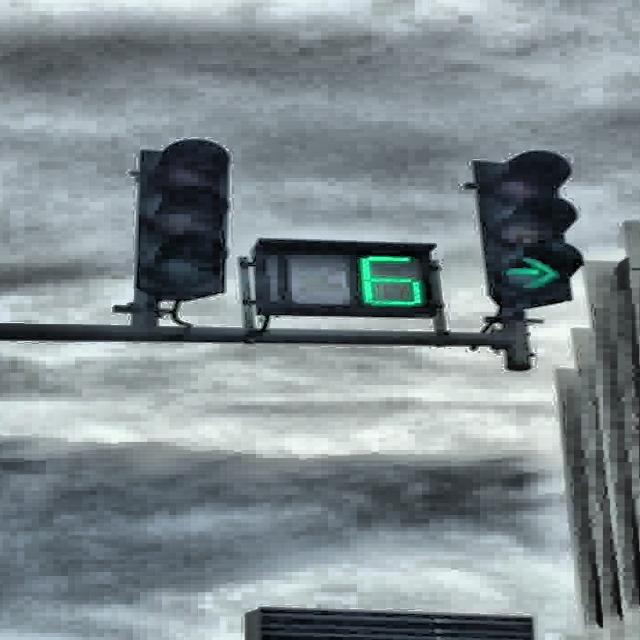green: (471, 150, 584, 308)
